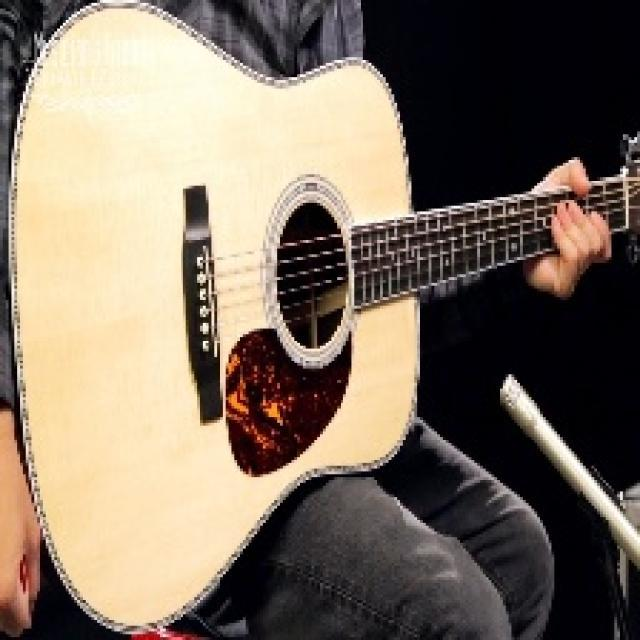acousticguitar: (12, 3, 566, 627)
